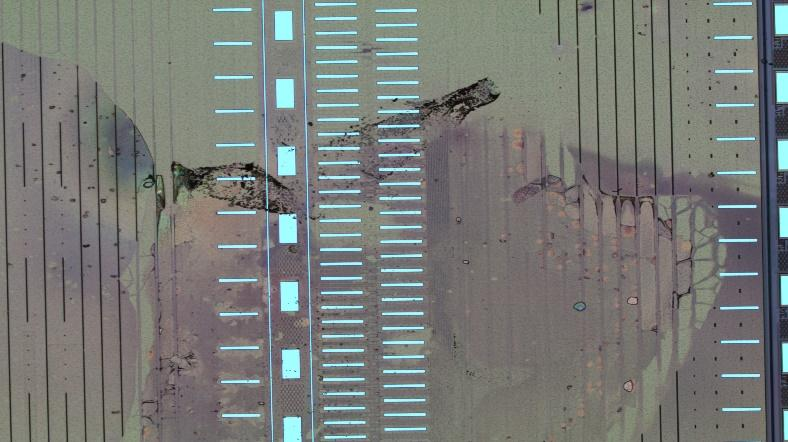BLOCK ETCH: (1, 39, 788, 442)
